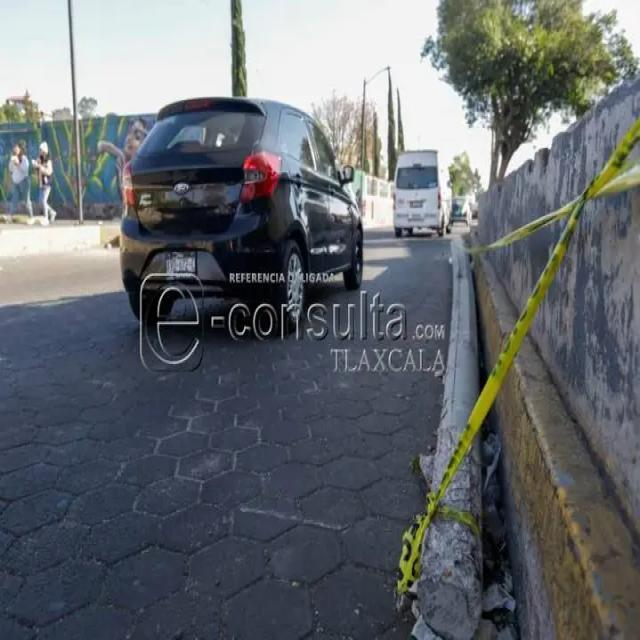Inclined Pole: (411, 227, 491, 639)
